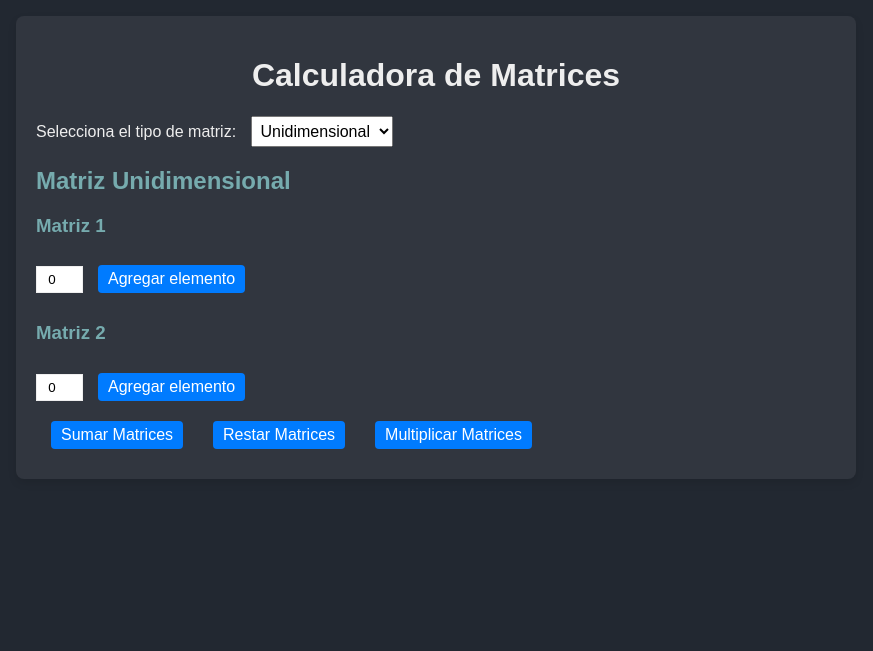
Scenario: MatrixCalculator Component › should handle matrix subtraction for bidimensional matrices
# Cambiamos el tipo de matriz a bidimensional usando el select por su rol de combobox
Select "Bidimensional" in the dropdown: (322, 131) x1=250 y1=116 x2=392 y2=147
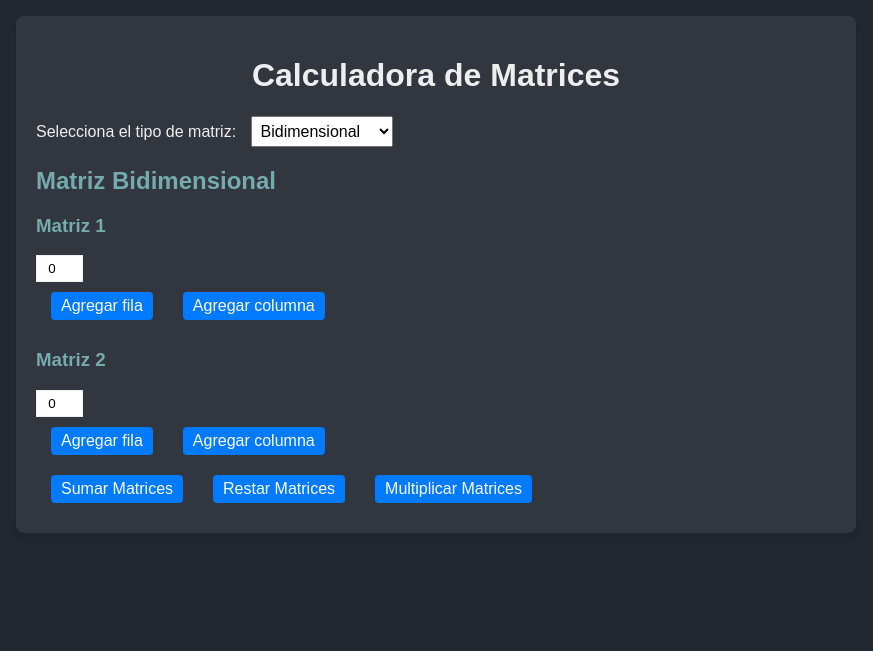
# Cambiamos los valores de las matrices
Replace the text in the number field below "Matriz 1" with "6": (60, 269) x1=36 y1=255 x2=83 y2=282
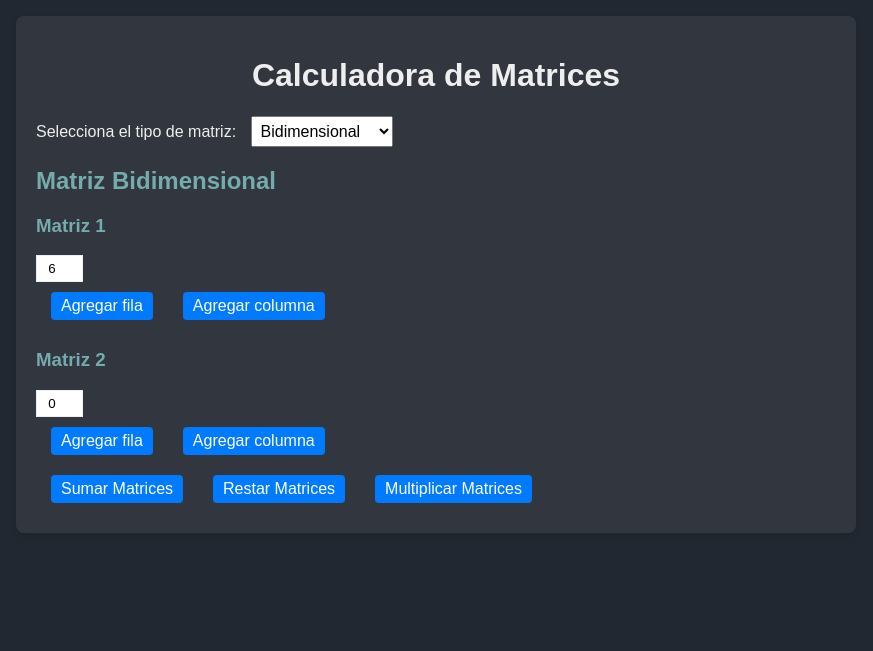
Replace the text in the number field below "Matriz 2" with "4": (60, 403) x1=36 y1=390 x2=83 y2=417
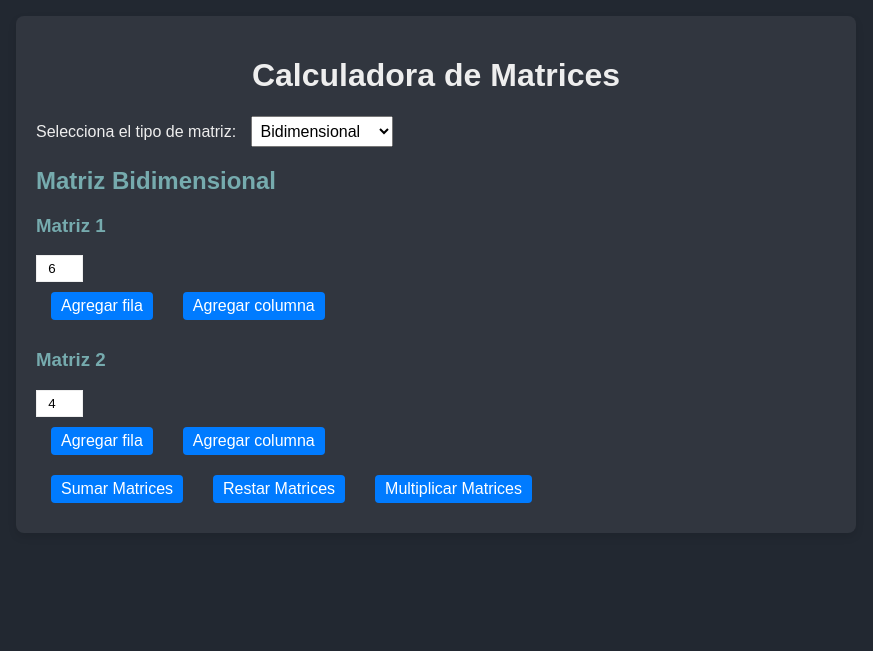
# Realizamos la operación de resta
Click the button "Restar Matrices": (279, 489) x1=213 y1=475 x2=345 y2=503
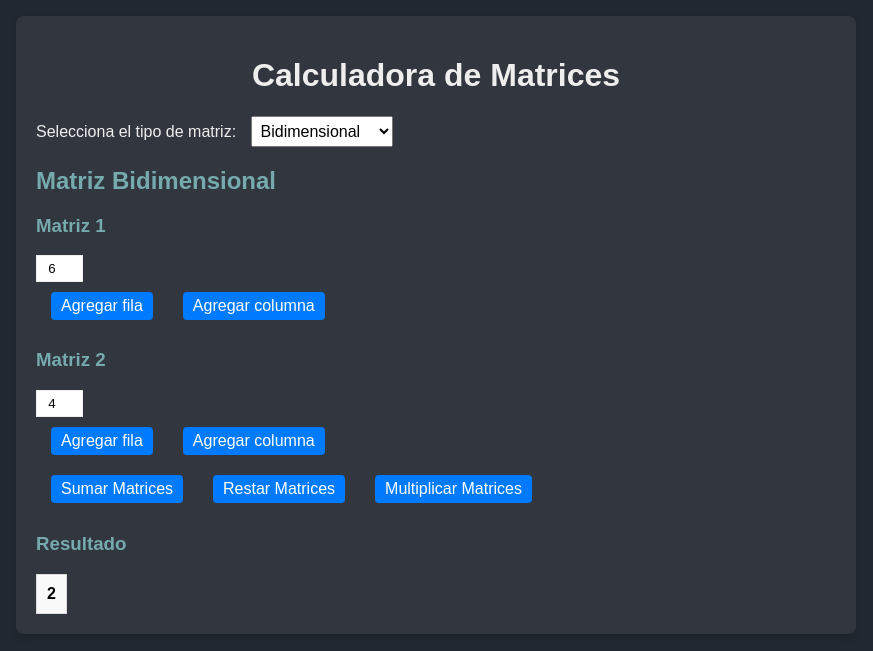
Check: the text "2" is shown, box x1=36 y1=574 x2=66 y2=613
